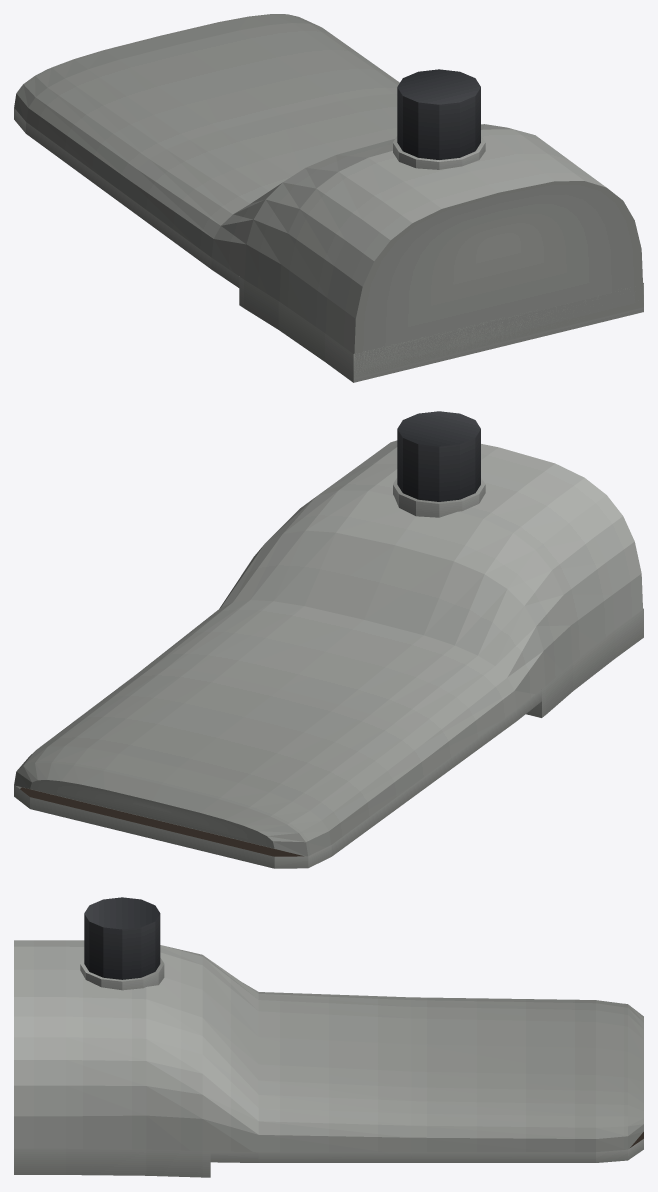
The model's file is streetlight_ltec.obj.
3 views of the same model, one above another, from view 1: azimuth 30°, elevation 25°; view 2: azimuth 150°, elevation 25°; view 3: azimuth 270°, elevation 25° (orthographic). The views are drawn at different scales.
Visible parts, largest first — view 1: fixture; view 2: fixture; view 3: fixture.
Boxes of the visible parts, box(x1,y1,x2,y2) form: fixture: box(14, 14, 643, 382); fixture: box(14, 411, 643, 868); fixture: box(14, 897, 643, 1177).
Size of the model in its own units: 0.5 by 0.3387 by 0.9812.
